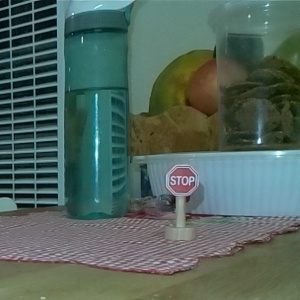stop sign: (161, 162, 201, 244)
